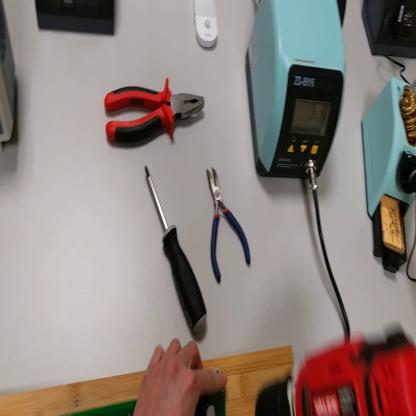electric screwdriver: (253, 326, 416, 415)
hand: (135, 338, 229, 414)
high voltage board: (80, 388, 227, 412)
oscilloscope: (1, 1, 18, 152)
pliers: (101, 75, 206, 144), (208, 161, 250, 286)
screwdriver-: (145, 161, 209, 335)
socket: (363, 2, 416, 62), (339, 1, 349, 30)
welder base: (361, 71, 416, 279)
welder station: (246, 4, 349, 179)
working area: (1, 347, 293, 416)
